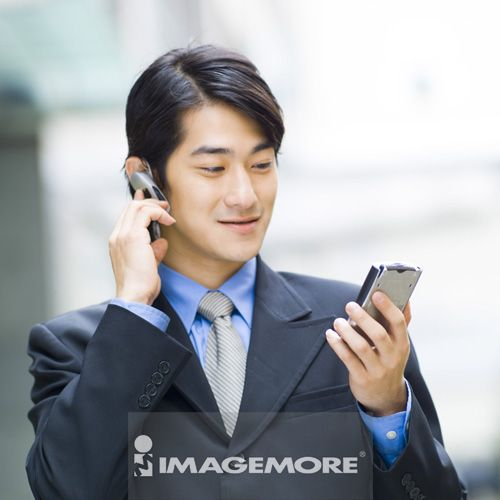phone: (351, 264, 421, 347)
talk: (106, 129, 276, 308)
